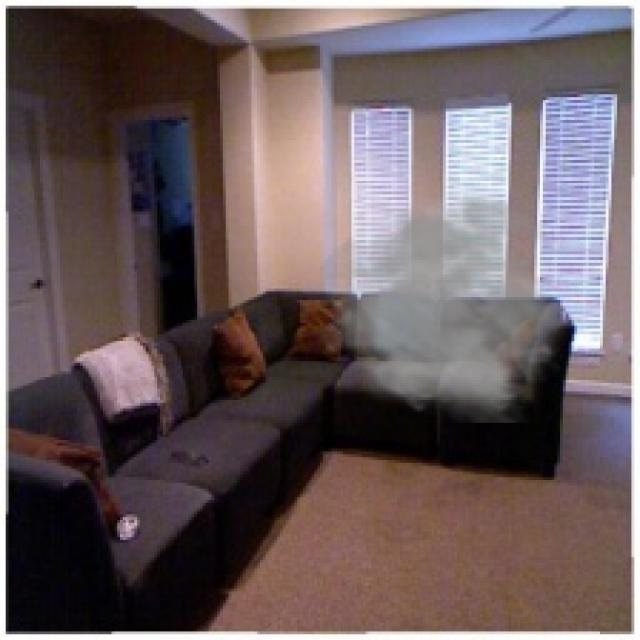smoke: (314, 177, 572, 423)
